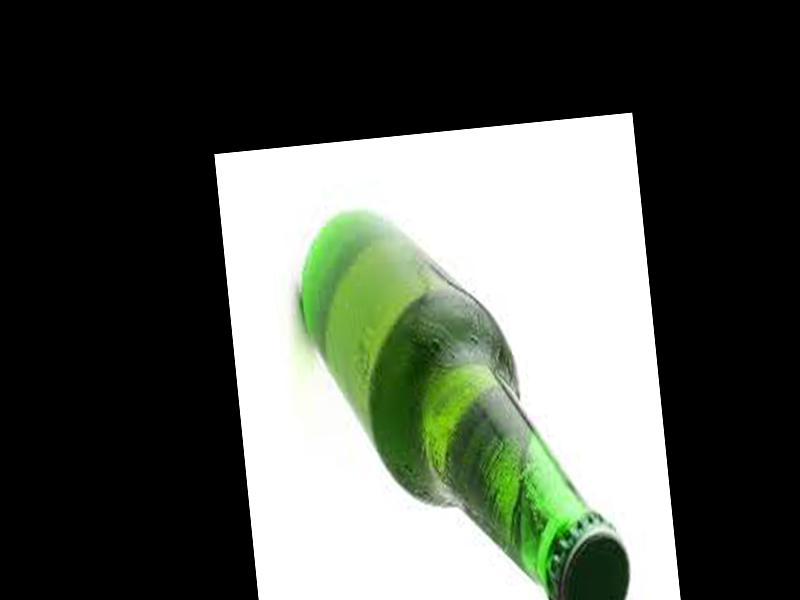Beer: (290, 185, 634, 600)
